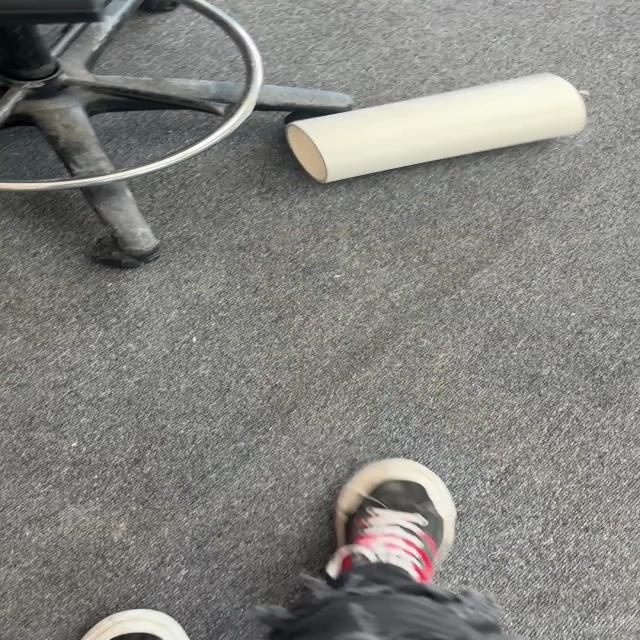Coral: (283, 71, 588, 184)
